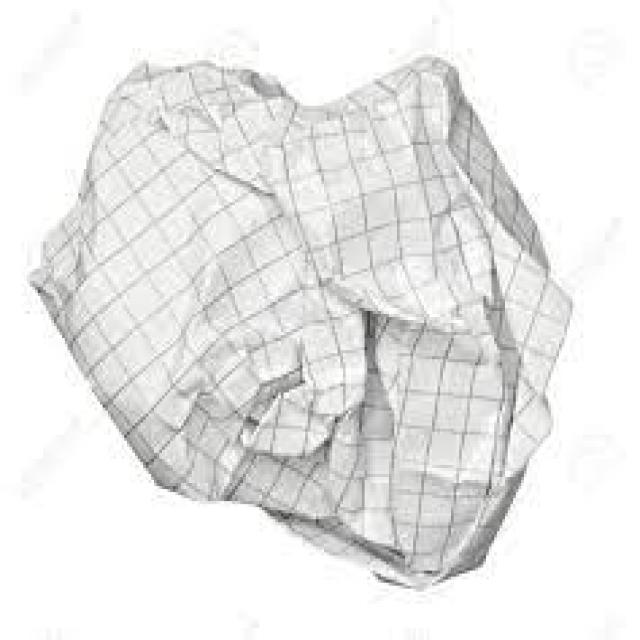Papel: (23, 49, 594, 604)
